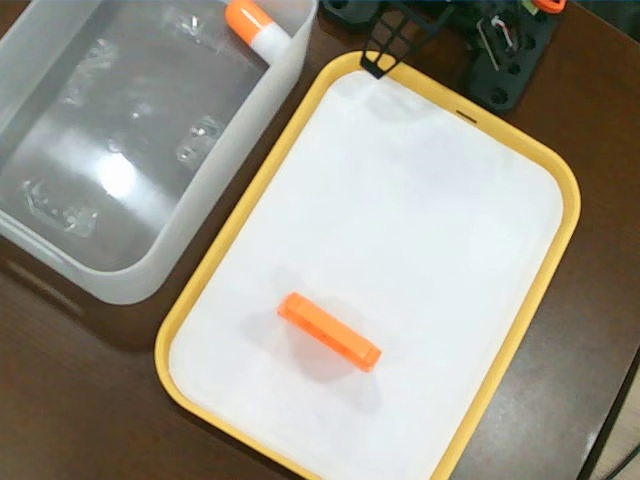pill: (220, 0, 303, 73)
